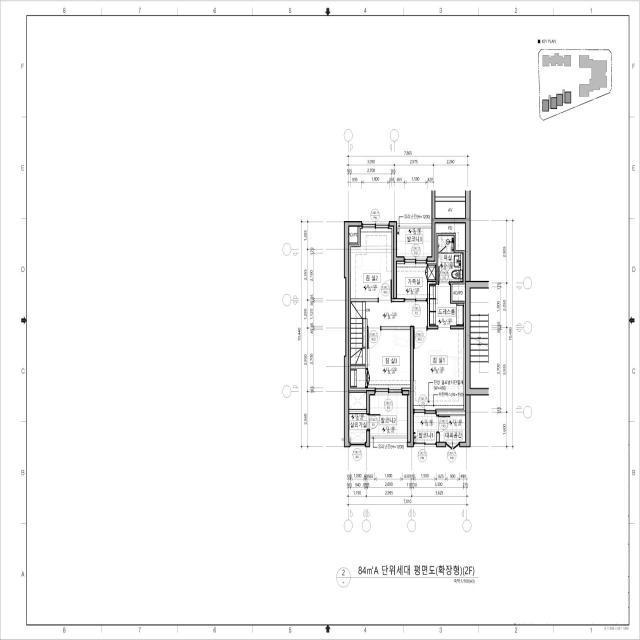space_balconi: (370, 395, 407, 436), (397, 228, 432, 257), (414, 414, 436, 442)
space_bedroom: (414, 329, 464, 409), (351, 330, 410, 388), (350, 229, 392, 298)
space_dressroom: (430, 285, 464, 325)
space_other: (366, 302, 427, 327), (397, 264, 436, 298), (436, 225, 465, 250), (440, 415, 465, 442), (435, 202, 465, 218), (349, 393, 366, 409), (452, 284, 465, 301), (349, 227, 358, 243)
space_outdoor_room: (349, 414, 366, 442)
space_staircase: (351, 302, 365, 365)
space_toilet: (438, 236, 463, 281)
